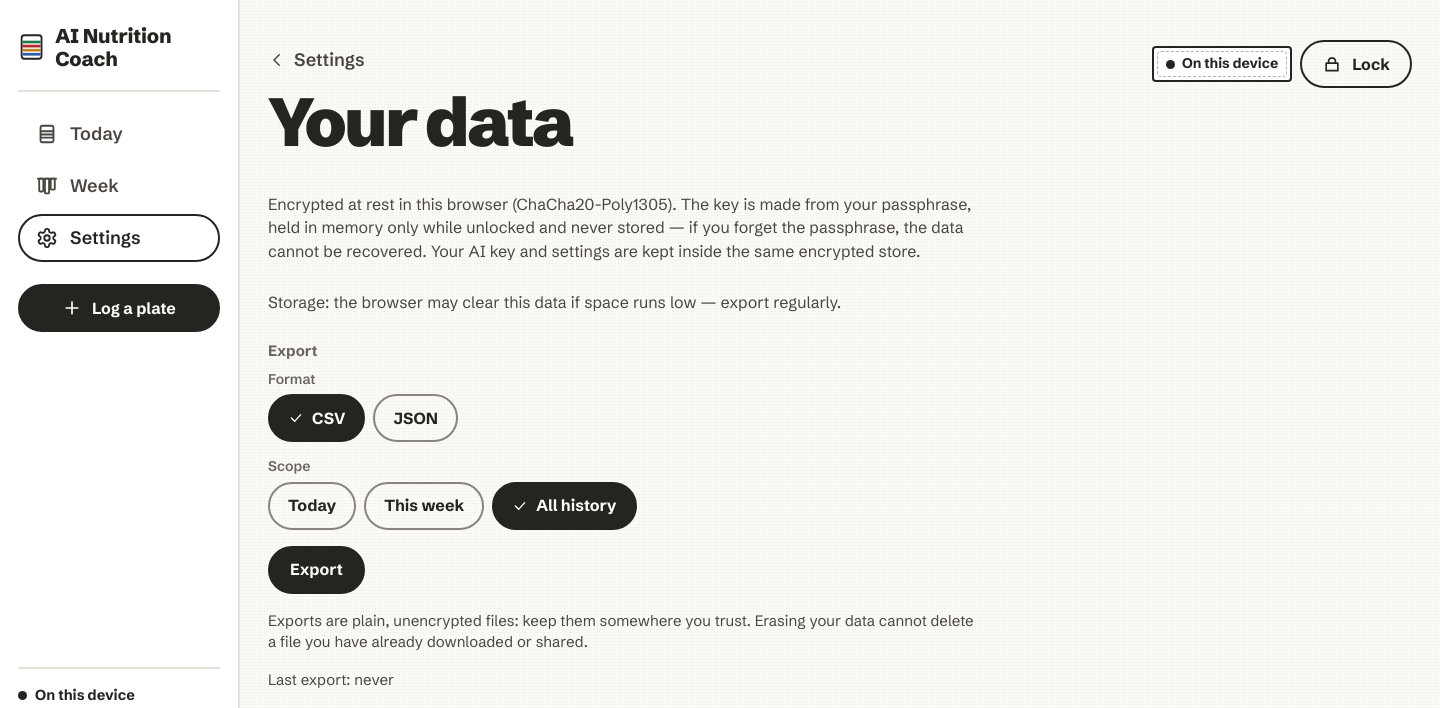
it: YourDataScreen: export › a failed delivery is one calm line and the button works again
Expected: the heading "Your data" is shown, [268,92,572,153]
Click the button "Export" at {"x": 316, "y": 570}, box [268,546,365,594]
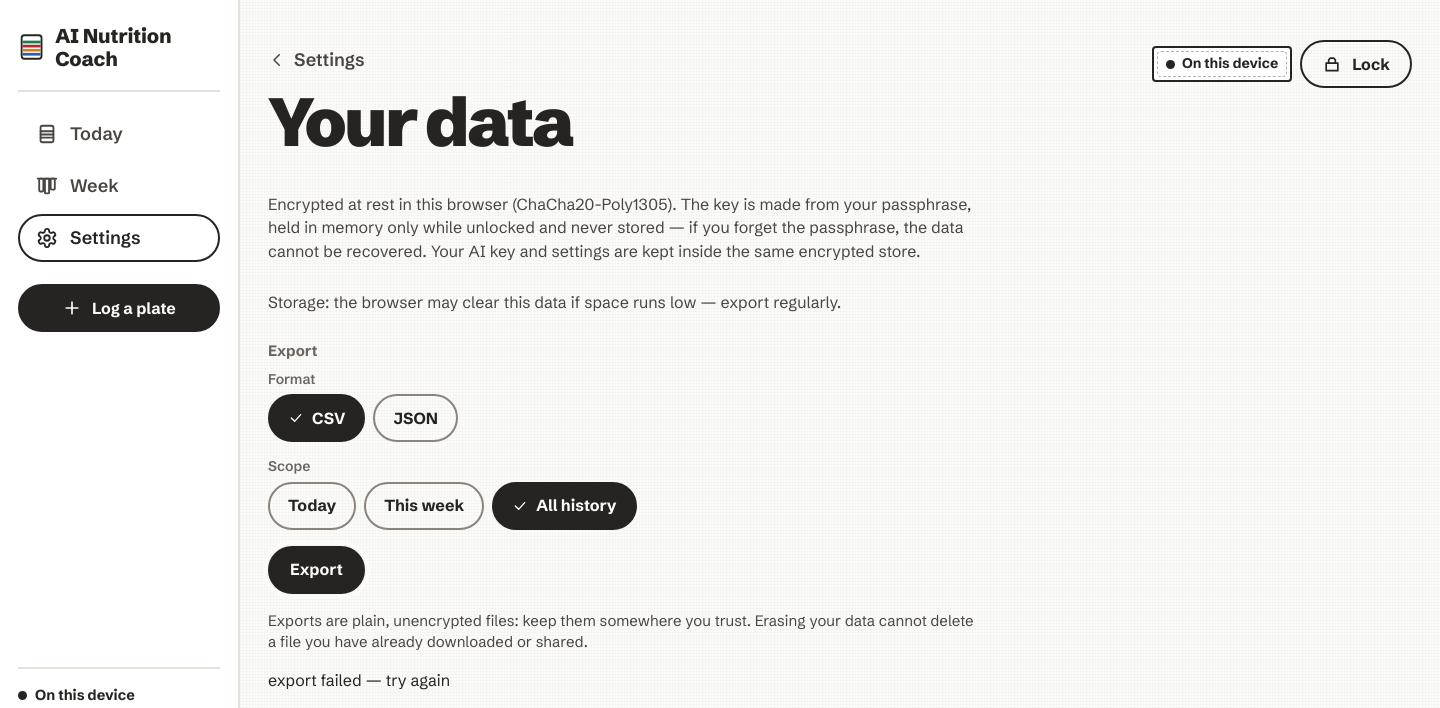
Expected: the text "export failed — try again" is shown, [268,670,450,690]
